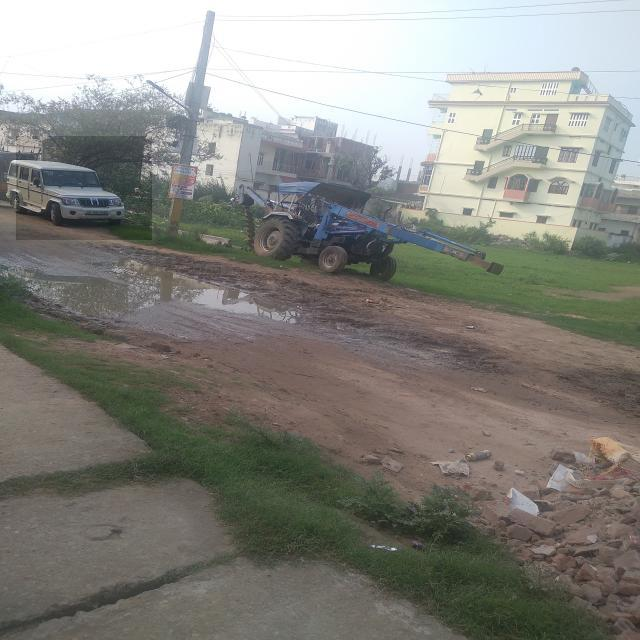Car: (16, 137, 152, 240)
Tractot: (233, 164, 423, 294)
